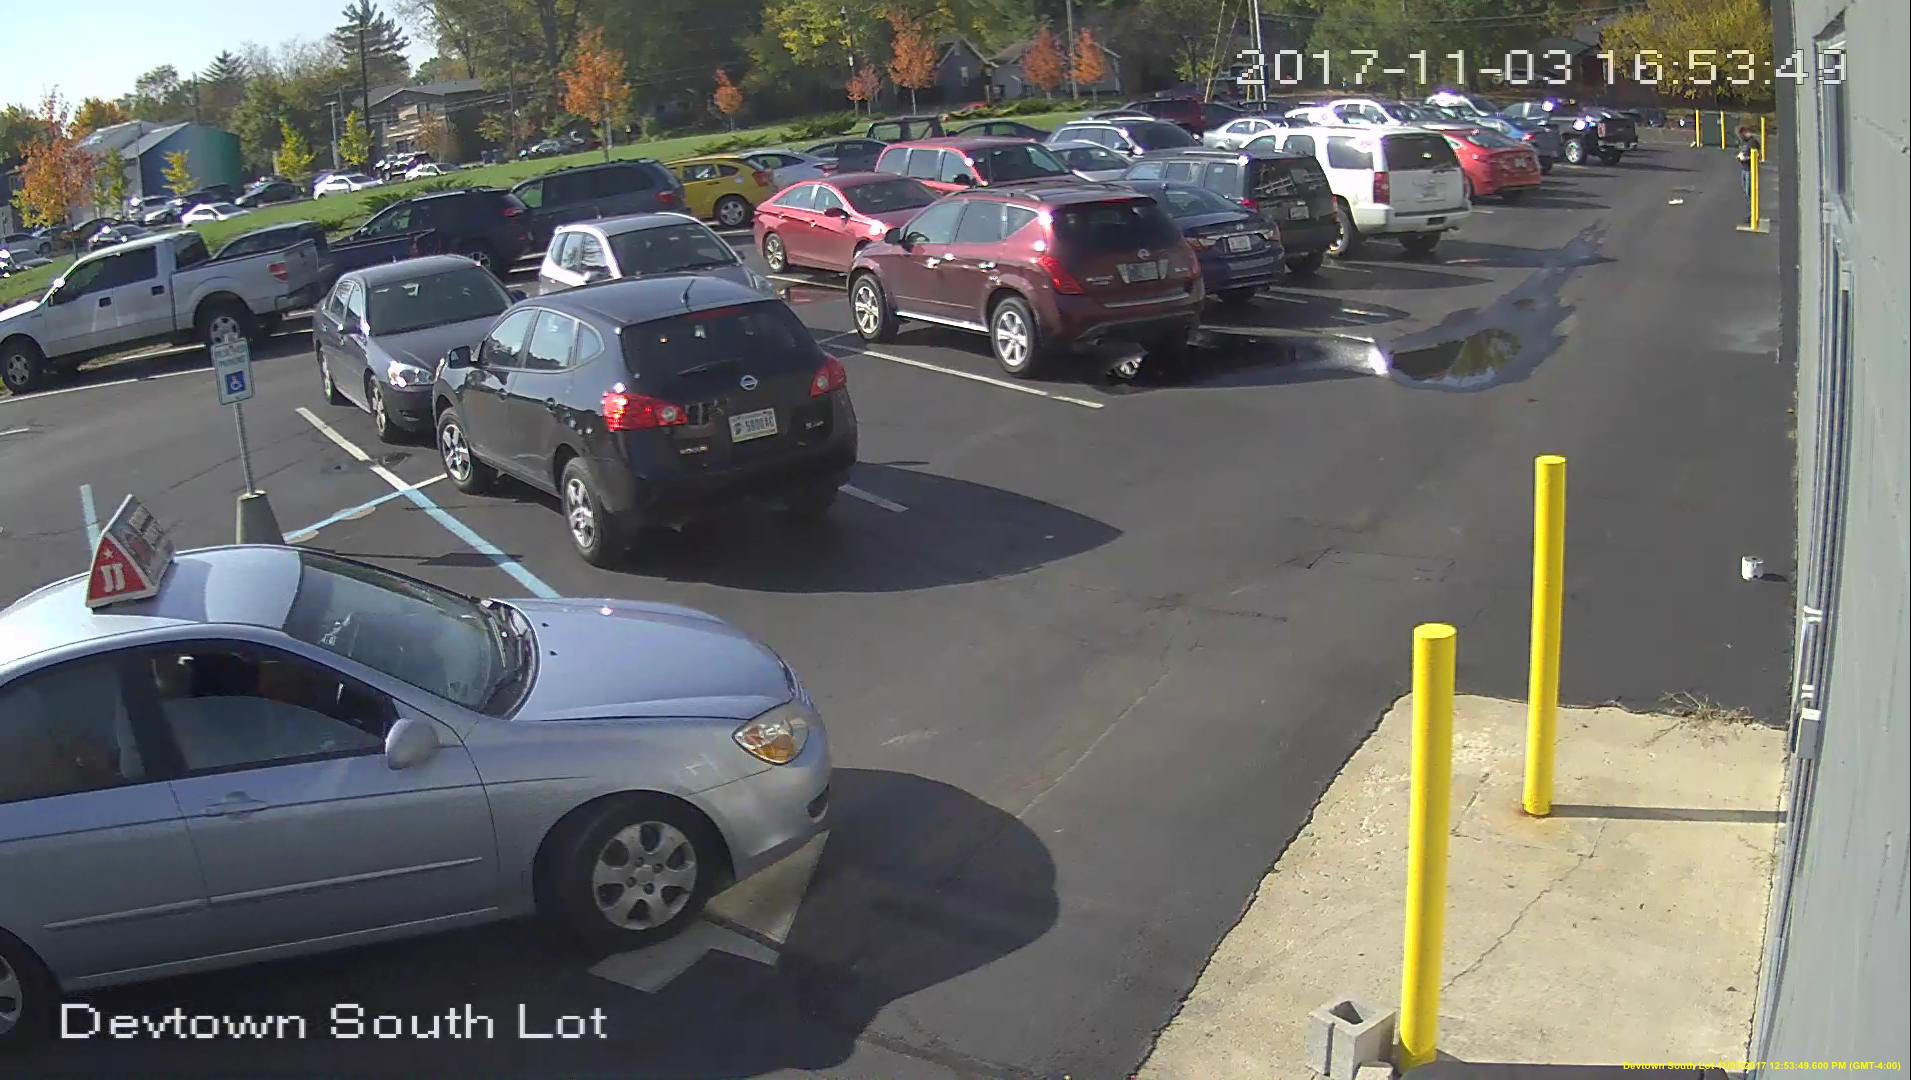jimmy_johns: (81, 487, 175, 618)
